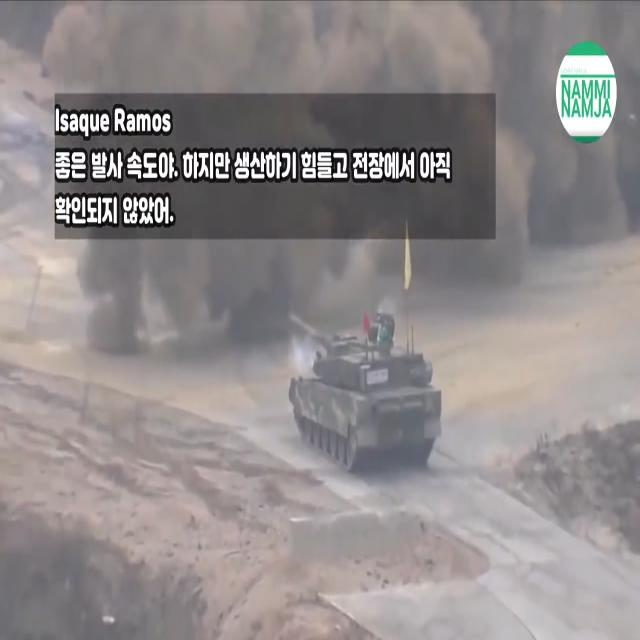korea tank: (286, 312, 442, 470)
